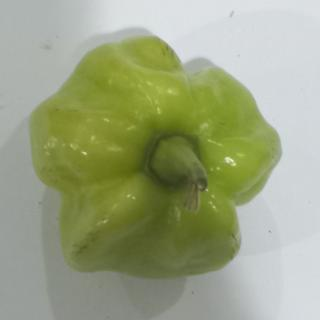Grade-B: (21, 25, 288, 284)
